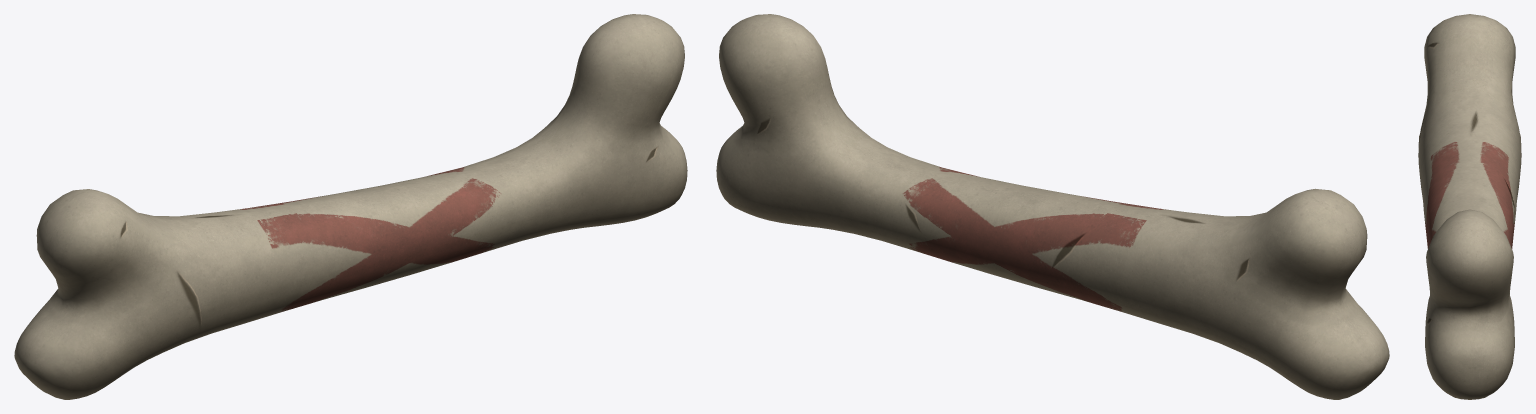
The model's file is hueso parri ninja.fbx.
The picture shows the model from 3 angles, left to right: view 1: azimuth 30°, elevation 25°; view 2: azimuth 150°, elevation 25°; view 3: azimuth 270°, elevation 25°; orthographic projection. The views are drawn at different scales.
Parts seen in each view (by area): view 1: Cube; view 2: Cube; view 3: Cube.
Boxes of the visible parts, x1,y1,x2,y2 form: Cube: (14, 14, 687, 399); Cube: (716, 14, 1389, 399); Cube: (1418, 14, 1521, 399).
Size of the model in its own units: 268 by 92.8 by 40.55.
